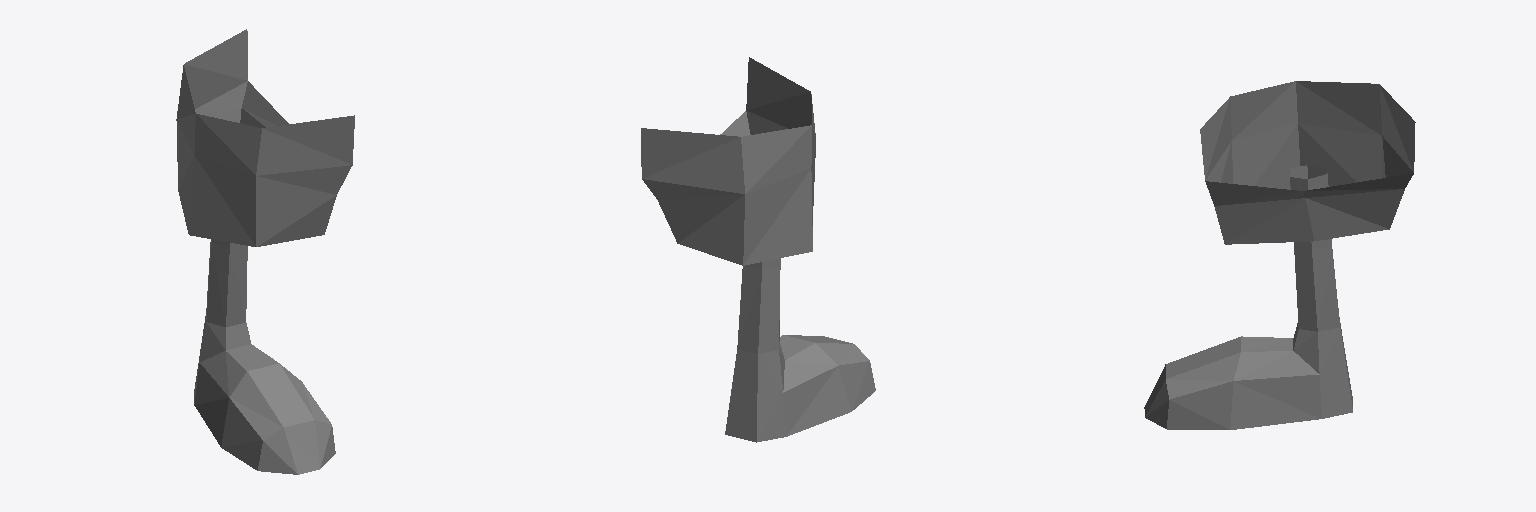
File: phineas_piernaD.obj
The picture shows the model from 3 angles: view 1: azimuth 30°, elevation 25°; view 2: azimuth 150°, elevation 25°; view 3: azimuth 270°, elevation 25°; orthographic projection.
Parts seen in each view (by area): view 1: Phineas_Pierna_Der; view 2: Phineas_Pierna_Der; view 3: Phineas_Pierna_Der.
Boxes of the visible parts, x1,y1,x2,y2 form: Phineas_Pierna_Der: [176, 29, 354, 474]; Phineas_Pierna_Der: [641, 57, 875, 442]; Phineas_Pierna_Der: [1144, 81, 1415, 429].
Bounding box in the file's own units: 0.1455 × 0.383 × 0.2883.